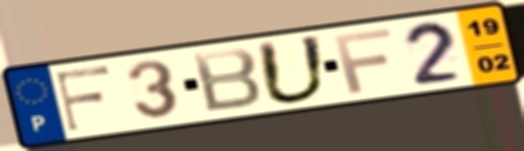2: (402, 17, 469, 91)
3: (125, 59, 181, 122)
B: (189, 46, 265, 115)
F: (331, 26, 395, 96), (53, 63, 113, 134)
U: (253, 33, 332, 107)
